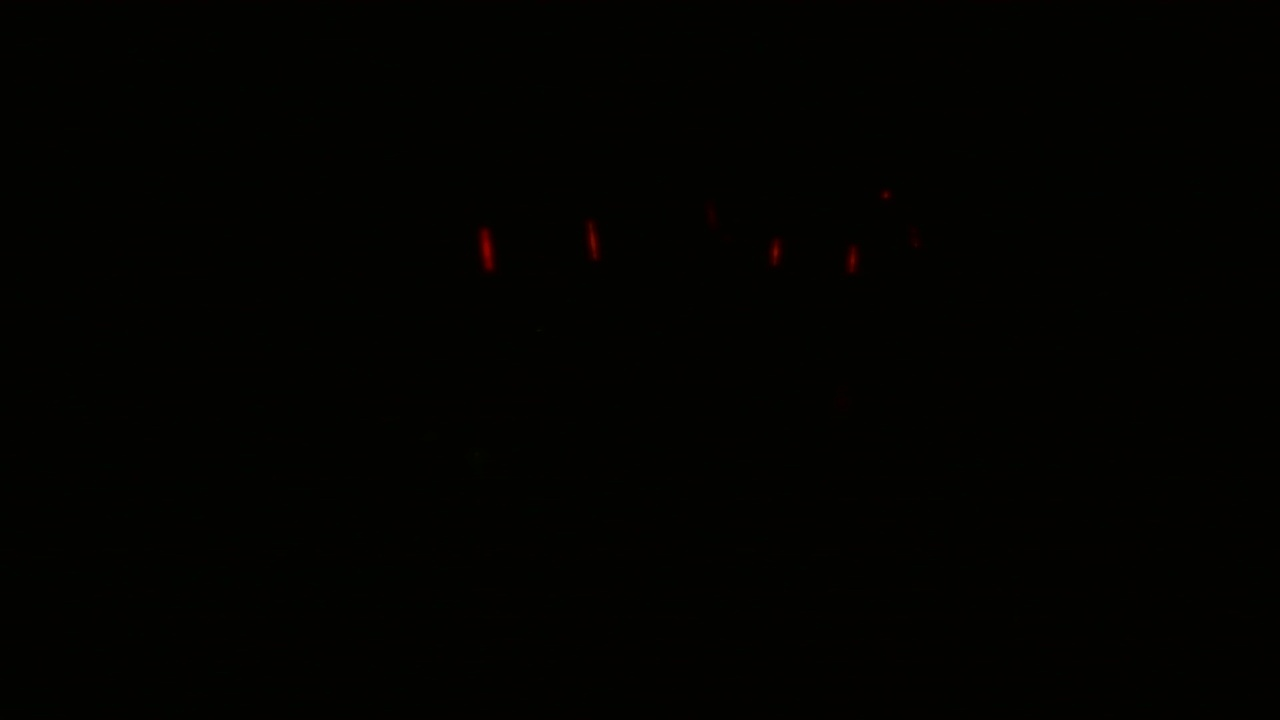pair1: (475, 211, 610, 281)
pair2: (758, 233, 872, 284)
